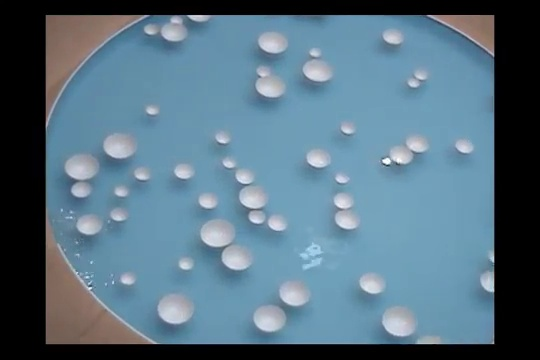bowl: (157, 293, 195, 326), (381, 304, 416, 338), (65, 152, 100, 181), (103, 131, 138, 160), (199, 219, 235, 247), (253, 304, 286, 333), (279, 279, 311, 307), (221, 245, 253, 271), (303, 59, 335, 84), (257, 31, 289, 55), (239, 185, 270, 209), (255, 77, 286, 99), (75, 213, 103, 236), (360, 272, 387, 294), (335, 209, 361, 231), (161, 22, 189, 42), (305, 149, 332, 169), (390, 146, 416, 166), (406, 134, 430, 154), (172, 162, 196, 181), (197, 191, 221, 209), (382, 29, 407, 46), (333, 192, 356, 209), (235, 167, 256, 185), (268, 214, 289, 232), (453, 138, 475, 155), (70, 182, 92, 198), (481, 268, 494, 294), (214, 130, 233, 147), (247, 210, 266, 226), (119, 271, 138, 287), (221, 154, 239, 170), (110, 207, 130, 221), (135, 166, 152, 182), (113, 184, 131, 199), (340, 121, 358, 136), (414, 335, 441, 344), (179, 255, 195, 270), (187, 14, 213, 23), (255, 65, 274, 77), (145, 104, 161, 118), (414, 68, 431, 81), (335, 173, 351, 186), (143, 23, 160, 35), (407, 77, 421, 90), (309, 46, 323, 58), (170, 14, 185, 24), (487, 247, 494, 264)
